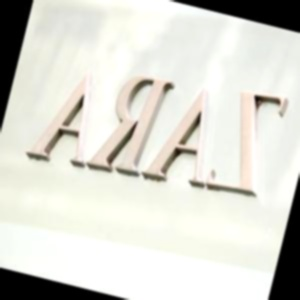zara: (281, 15, 300, 44)
